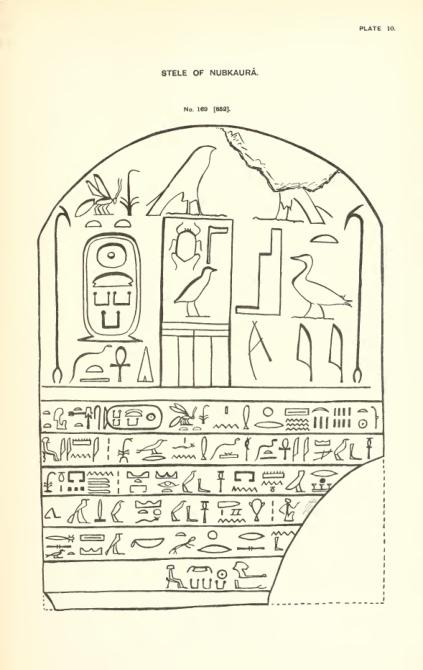circle: (79, 231, 146, 345), (100, 404, 165, 431)
